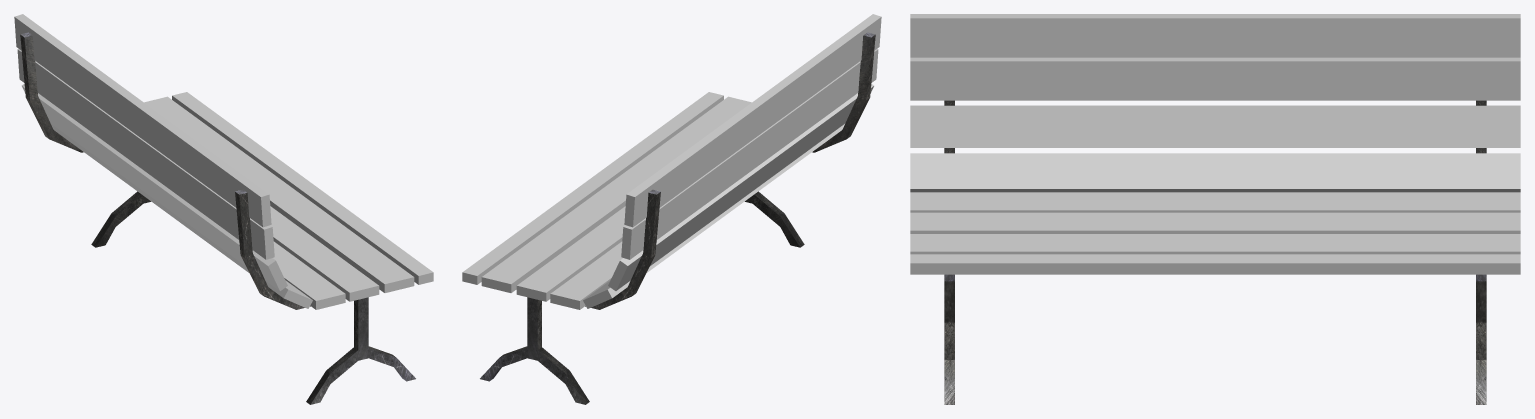
File: Bench.fbx
3 views of the same model, side by side, from view 1: azimuth 30°, elevation 25°; view 2: azimuth 150°, elevation 25°; view 3: azimuth 270°, elevation 25° (orthographic). The views are drawn at different scales.
Visible parts, largest first — view 1: Bench, Bench Legs; view 2: Bench, Bench Legs; view 3: Bench, Bench Legs.
Part boxes in pixels (<box>): Bench: <box>14,14,433,309</box>; Bench Legs: <box>20,32,415,404</box>; Bench: <box>462,14,881,309</box>; Bench Legs: <box>480,32,875,404</box>; Bench: <box>910,14,1520,274</box>; Bench Legs: <box>944,100,1486,404</box>.
Bounding box in the file's own units: 123 × 152 × 290.
